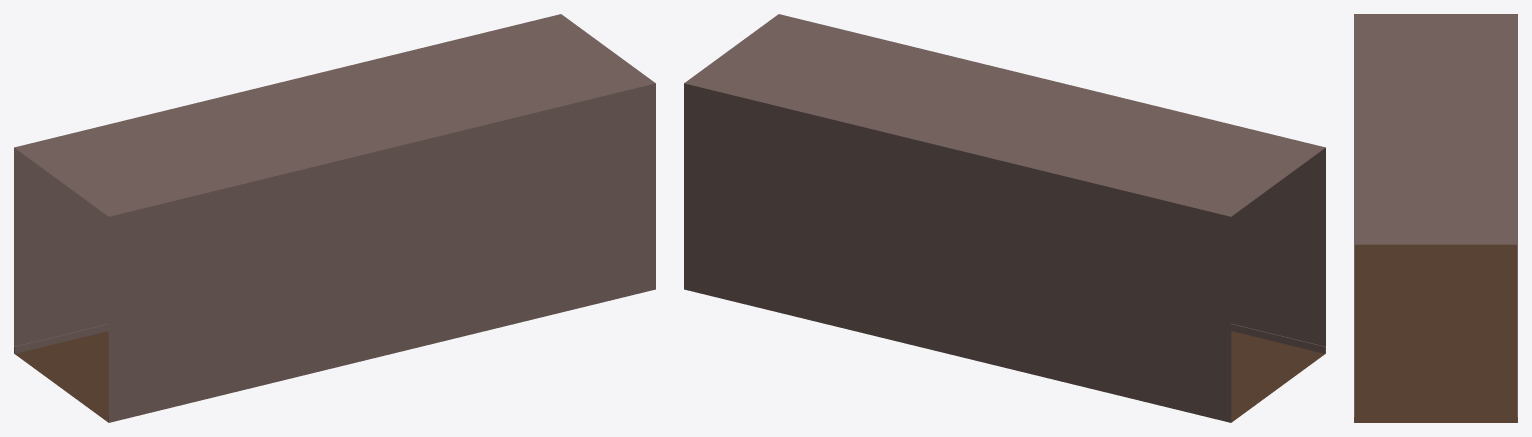
The model's file is east-hall.glb.
The picture shows the model from 3 angles, left to right: view 1: azimuth 30°, elevation 25°; view 2: azimuth 150°, elevation 25°; view 3: azimuth 270°, elevation 25°; orthographic projection. The views are drawn at different scales.
Parts seen in each view (by area): view 1: east-hall; view 2: east-hall; view 3: east-hall.
Boxes of the visible parts, left/top/right/bottom form: east-hall: left=14, top=14, right=655, bottom=422; east-hall: left=684, top=14, right=1325, bottom=422; east-hall: left=1354, top=14, right=1517, bottom=422.
Size of the model in its own units: 10 by 3.6 by 3.
